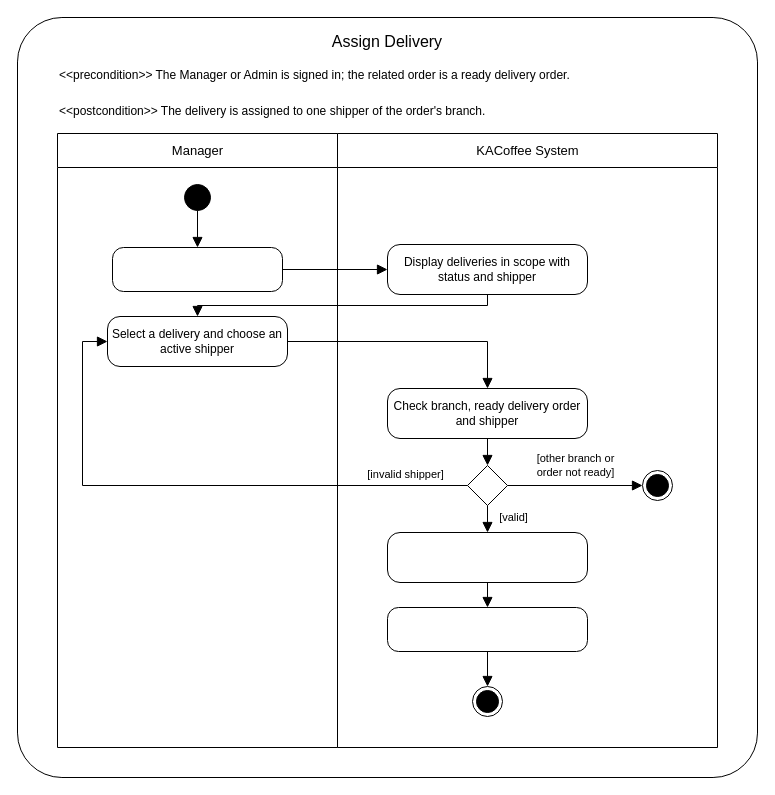
This 775x795 diagram has some shape labels left out. The centre of each missing label's shape, as x and y in pixels:
Assign the shipper; record history and audit log: pixel 487 557
Display the updated delivery: pixel 487 629
Open the deliveries screen: pixel 197 269
